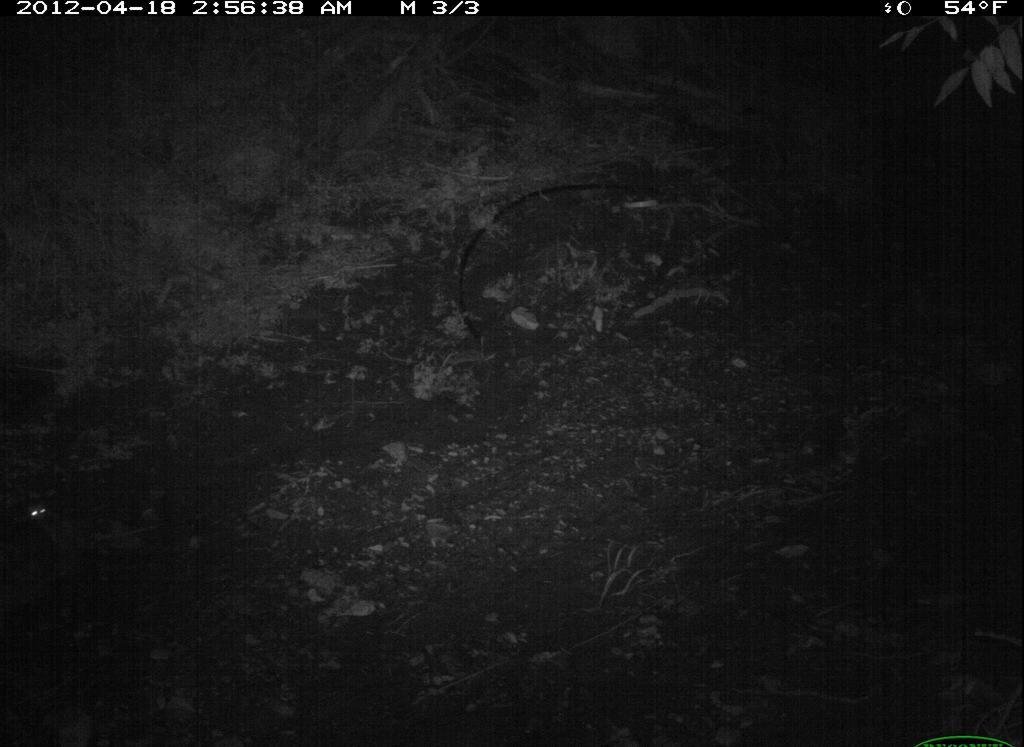opossum: (20, 486, 126, 580)
